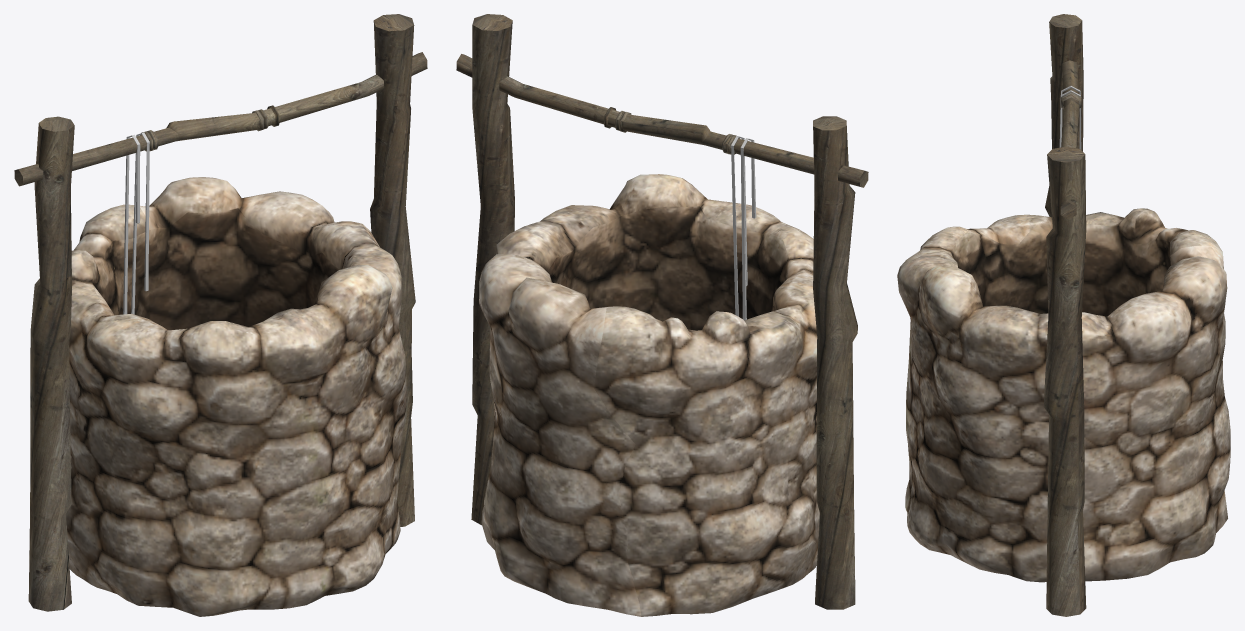
The model's file is shuijing.obj.
3 renders of one model, left to right at view 1: azimuth 30°, elevation 25°; view 2: azimuth 150°, elevation 25°; view 3: azimuth 270°, elevation 25°, orthographic. The views are drawn at different scales.
Visible parts, largest first — view 1: object 2, polySurface312, object 1; view 2: object 2, polySurface312, object 1; view 3: object 2, polySurface312.
Part boxes in pixels (left/top/right/bottom): object 2: left=66, top=177, right=406, bottom=616; polySurface312: left=14, top=14, right=427, bottom=611; object 1: left=123, top=132, right=149, bottom=314; object 2: left=479, top=174, right=819, bottom=616; polySurface312: left=456, top=14, right=868, bottom=609; object 1: left=731, top=136, right=756, bottom=320; object 2: left=897, top=208, right=1230, bottom=582; polySurface312: left=1043, top=14, right=1086, bottom=616.
Bounding box in the file's own units: 30.98 × 36.61 × 24.15.
